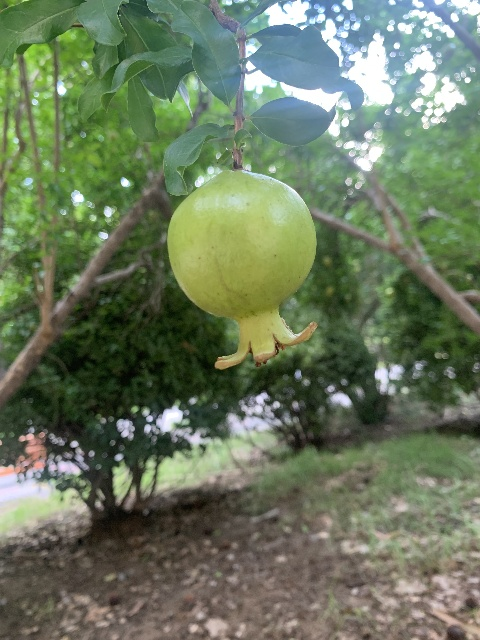mid-growth: (166, 170, 319, 370)
